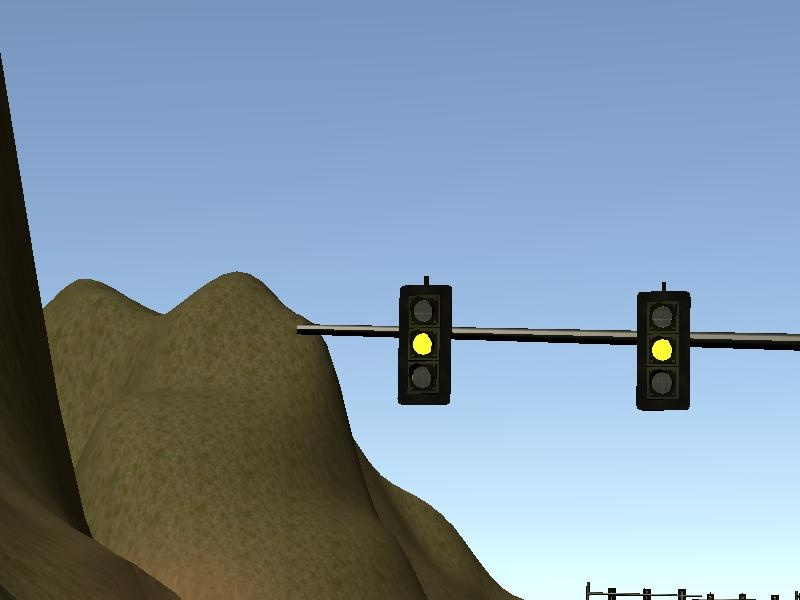YELLOW: (631, 283, 693, 413), (394, 276, 456, 406)
